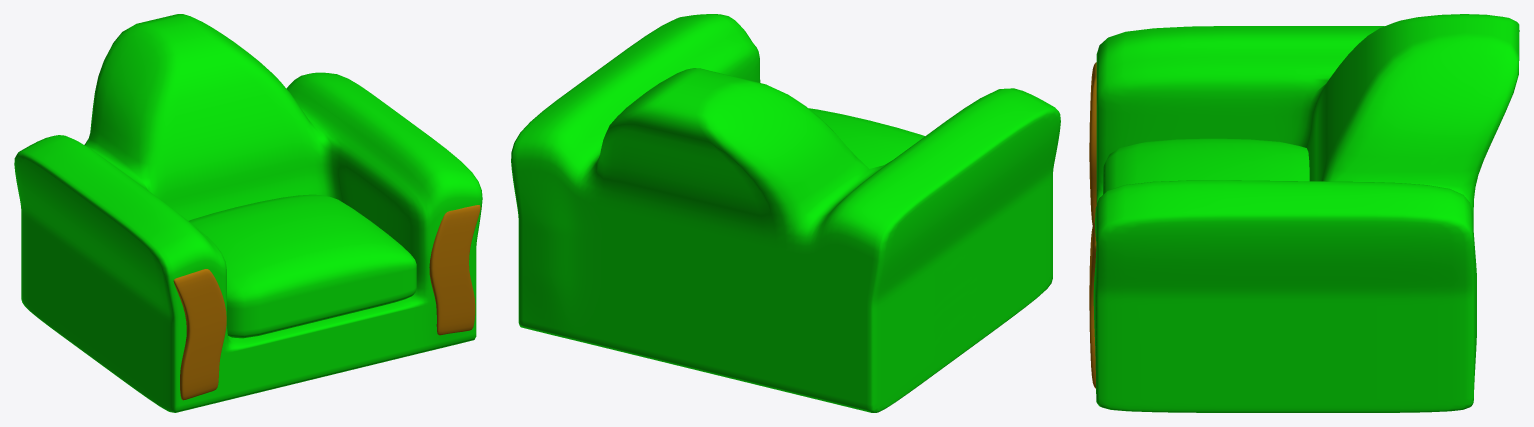
The model's file is Poltrona.fbx.
The picture shows the model from 3 angles, left to right: view 1: azimuth 30°, elevation 25°; view 2: azimuth 150°, elevation 25°; view 3: azimuth 270°, elevation 25°; orthographic projection. The views are drawn at different scales.
Parts seen in each view (by area): view 1: pCube9; view 2: pCube9; view 3: pCube9.
Part boxes in pixels (x1,y1,x2,y2): pCube9: (14,14,482,412); pCube9: (511,14,1060,412); pCube9: (1089,14,1519,412).
Bounding box in the file's own units: 204 × 149 × 194.
